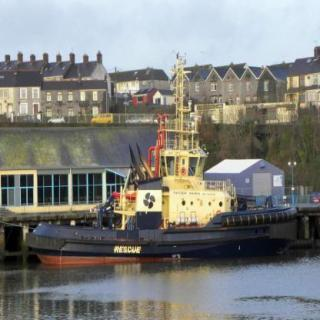Tug Boat: (32, 145, 306, 260)
